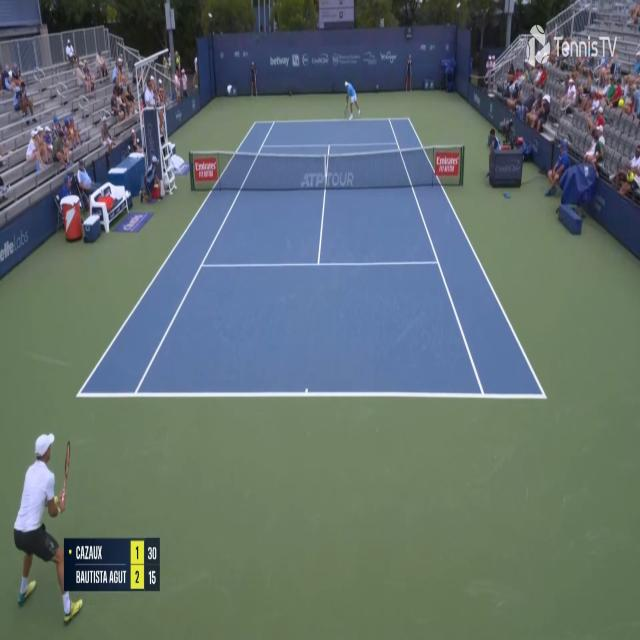tennis-player: (9, 428, 85, 630), (341, 76, 362, 122)
